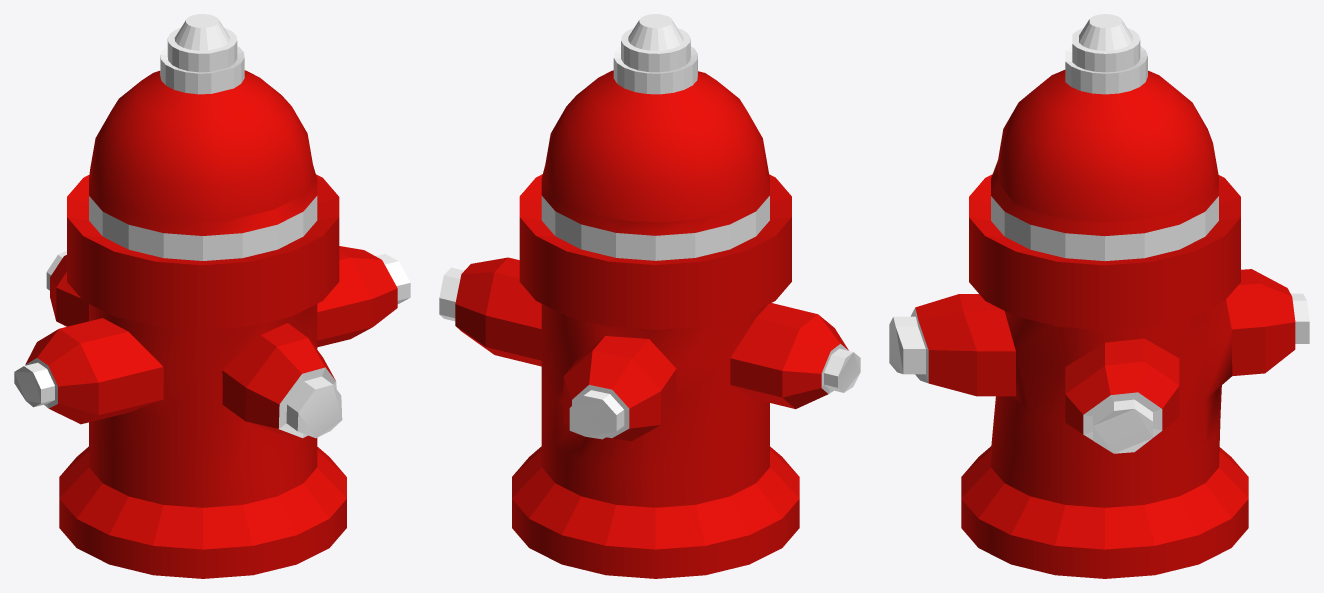
File: FireHydrant_HT.fbx
3 renders of one model, left to right at view 1: azimuth 30°, elevation 25°; view 2: azimuth 150°, elevation 25°; view 3: azimuth 270°, elevation 25°, orthographic.
Parts seen in each view (by area): view 1: Sphere003; view 2: Sphere003; view 3: Sphere003.
Boxes of the visible parts, x1=… form: Sphere003: x1=14, y1=14, x2=410, y2=578; Sphere003: x1=439, y1=14, x2=860, y2=578; Sphere003: x1=889, y1=14, x2=1309, y2=578.
Size of the model in its own units: 41.08 by 50.31 by 38.64.
